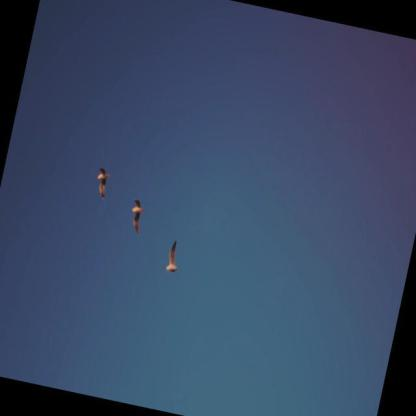bird: (125, 196, 148, 236), (163, 237, 185, 274), (91, 165, 112, 201)
